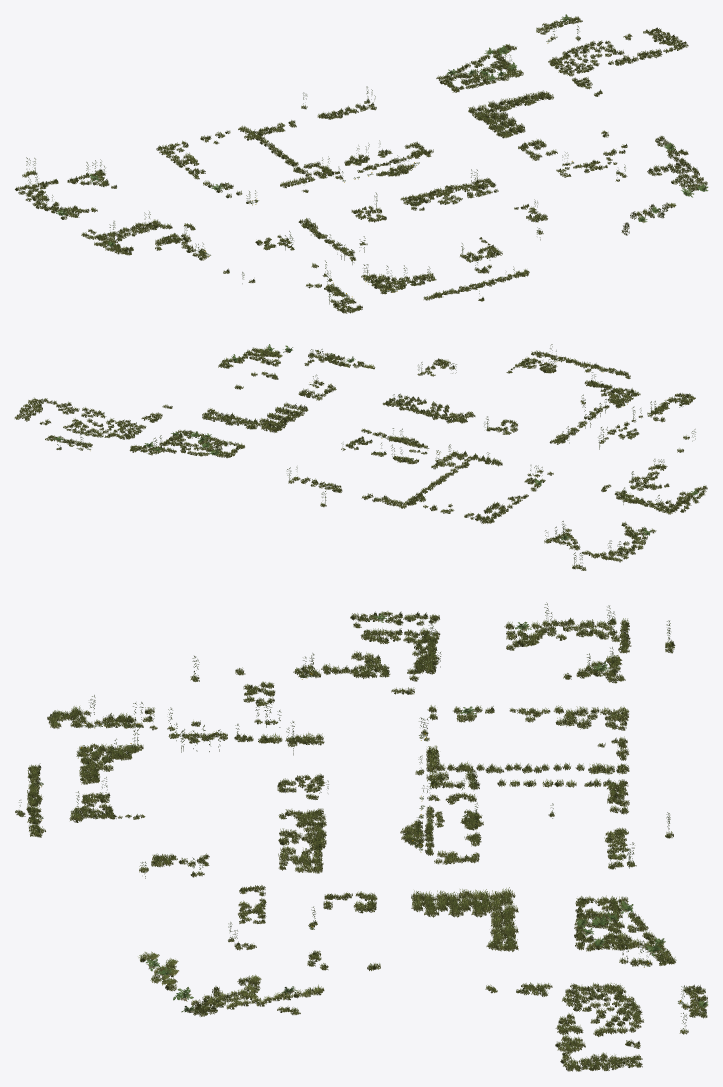
The model's file is Grass_gojuga.fbx.
3 views of the same model, one above another, from view 1: azimuth 30°, elevation 25°; view 2: azimuth 150°, elevation 25°; view 3: azimuth 270°, elevation 25° (orthographic). The views are drawn at different scales.
Bounding box in the file's own units: 9169 × 779 × 5967.
